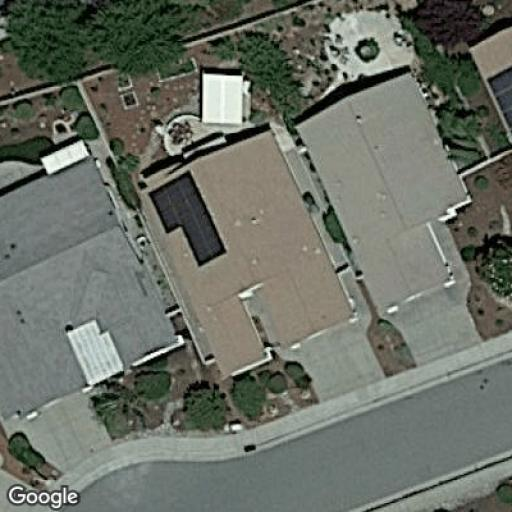solar-panel: (146, 169, 228, 267), (487, 64, 512, 128)
